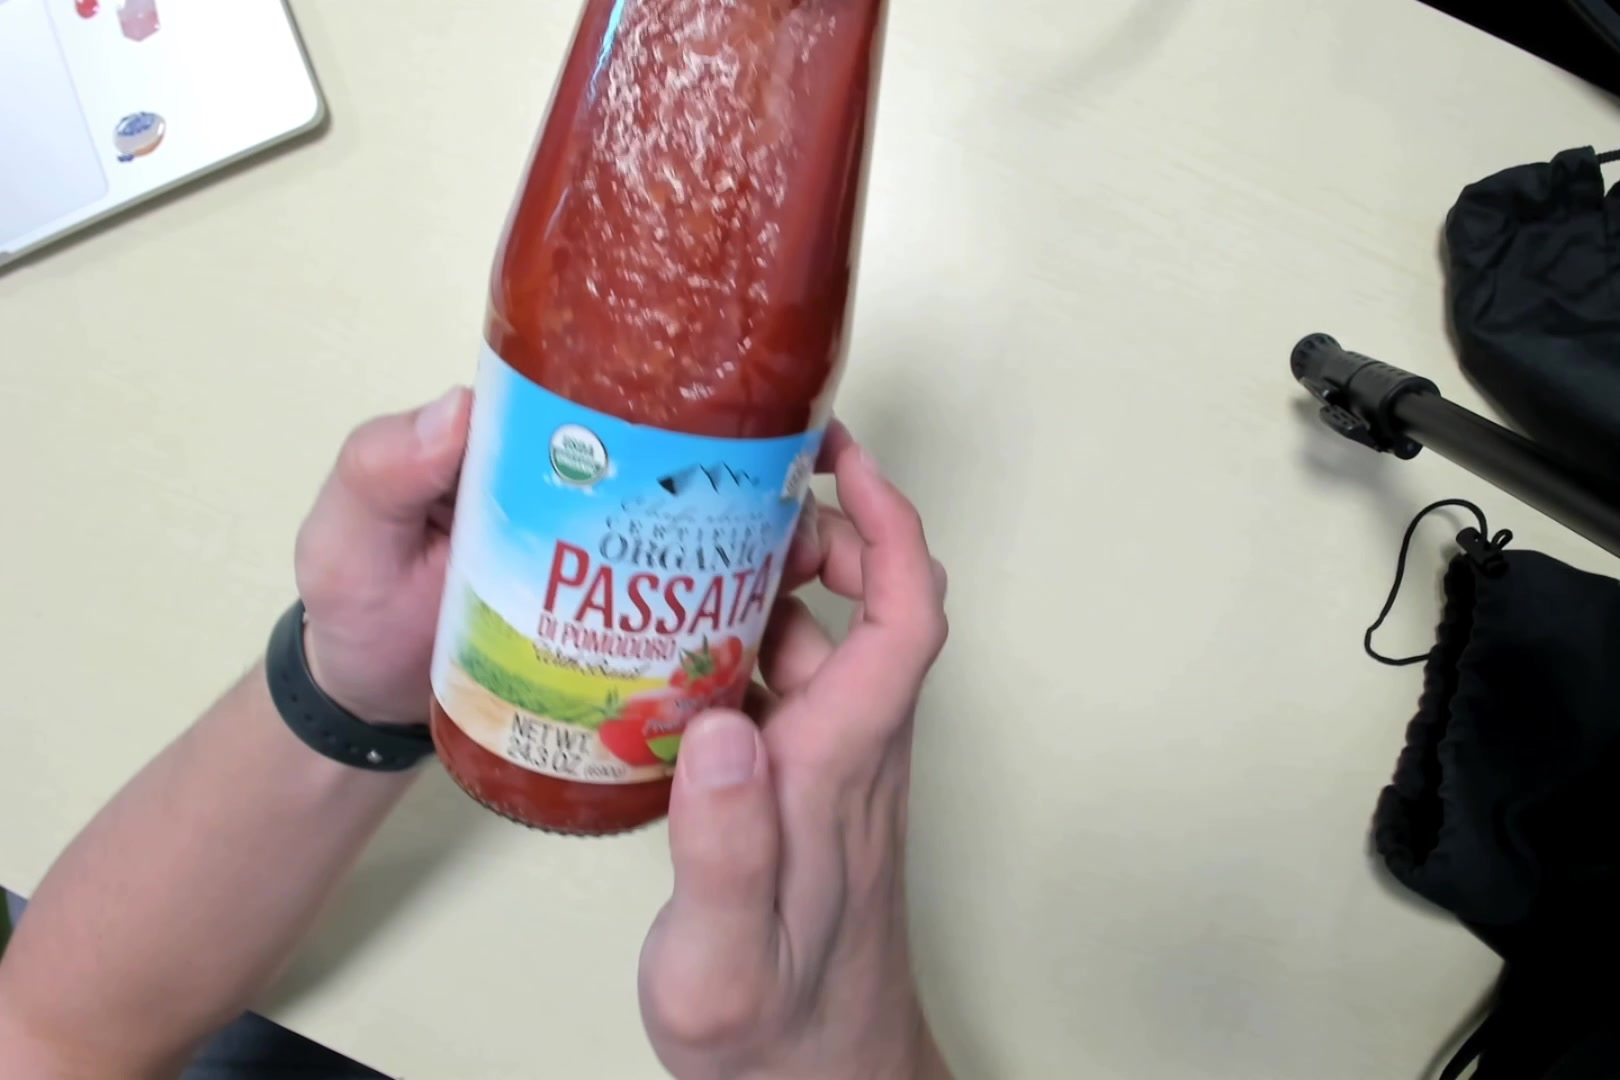PastaSauce_600-699g_NonHalal_NonHealthy: (447, 8, 877, 837)
